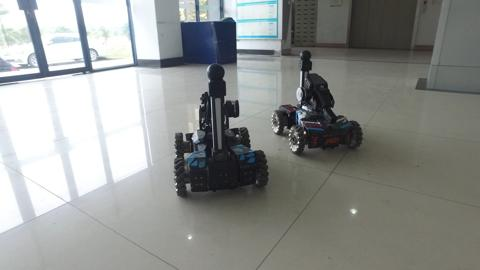chariot: (169, 63, 269, 198), (264, 46, 368, 158)
